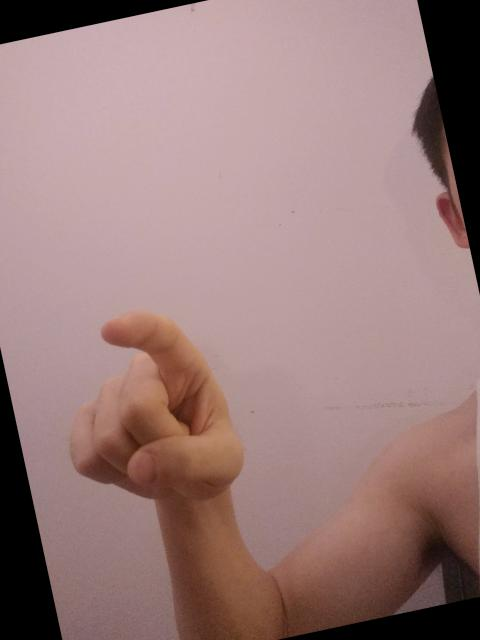Z: (40, 290, 258, 528)
